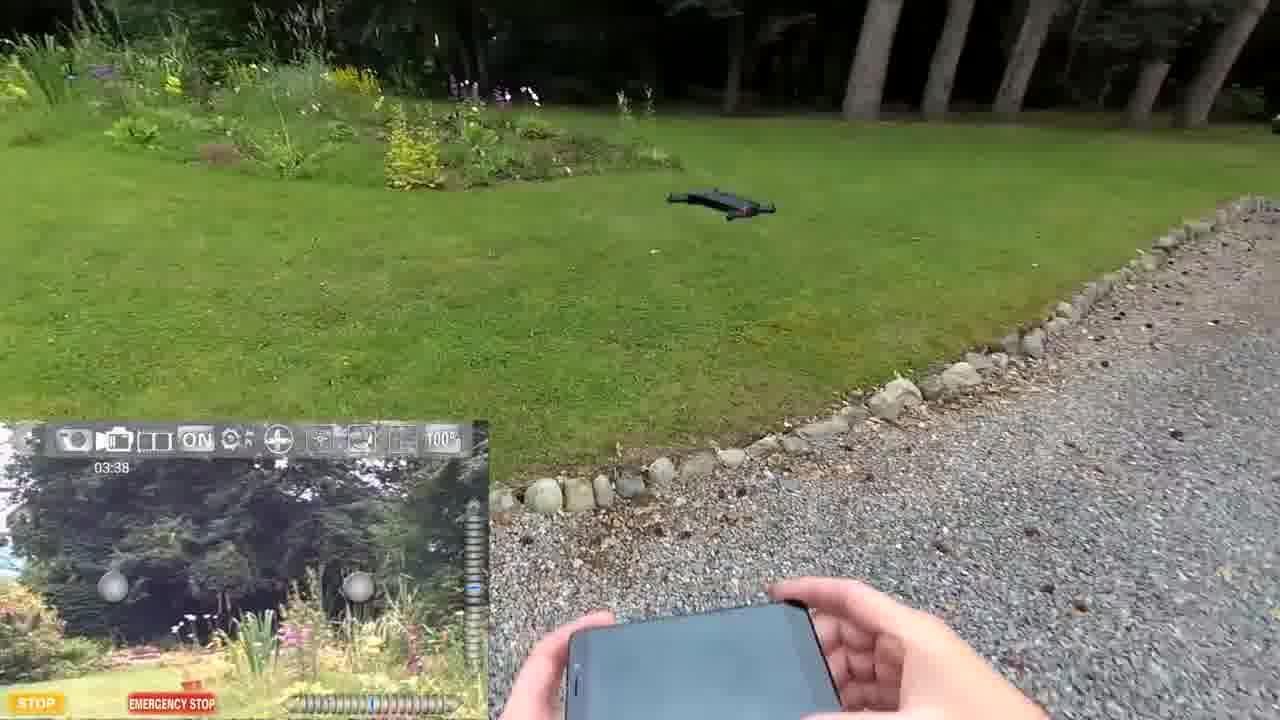drone: (652, 171, 790, 232)
